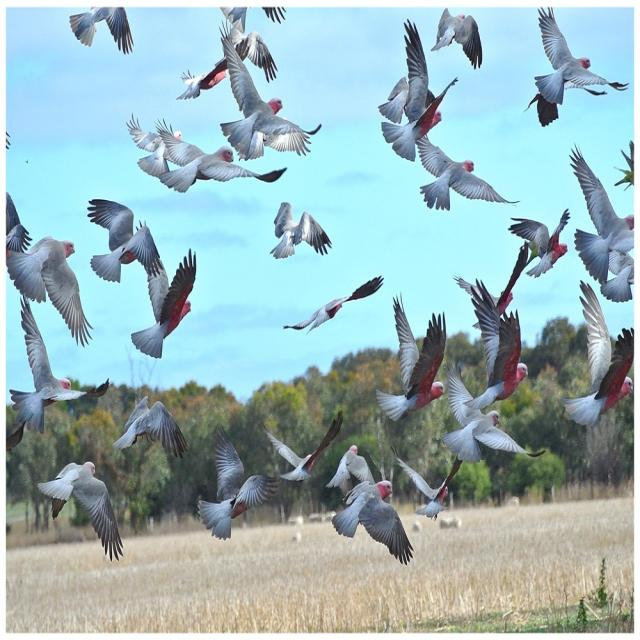bird: (201, 50, 325, 168), (523, 0, 633, 129), (561, 143, 640, 301), (382, 17, 462, 164), (458, 272, 536, 418), (7, 299, 92, 431), (373, 294, 450, 439), (5, 226, 95, 350), (29, 454, 128, 562), (122, 231, 200, 367), (190, 433, 284, 543), (180, 12, 292, 104), (159, 130, 284, 210), (331, 474, 420, 566), (85, 200, 159, 308), (276, 271, 384, 333), (418, 153, 526, 210), (110, 386, 180, 458), (505, 208, 570, 284), (267, 204, 332, 264), (429, 12, 484, 69), (69, 8, 137, 54)
